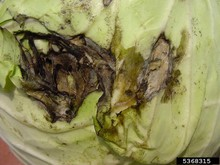damaged_cabbage: (1, 3, 213, 152)
